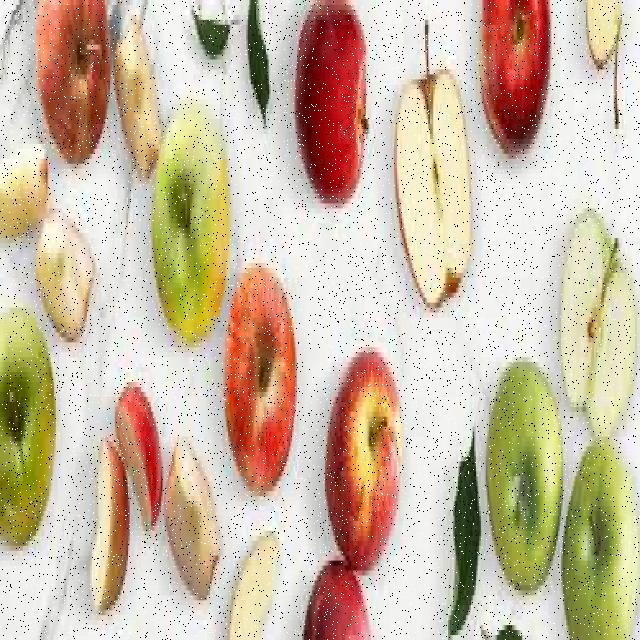Apple: (396, 60, 473, 308), (486, 360, 562, 589), (561, 211, 636, 440), (154, 108, 228, 336), (224, 267, 295, 494), (324, 352, 402, 554), (562, 440, 640, 640), (295, 5, 369, 198), (0, 302, 58, 545), (38, 0, 116, 149), (482, 0, 553, 144), (166, 440, 219, 589), (37, 207, 94, 332), (88, 430, 127, 610), (120, 369, 164, 524), (116, 22, 158, 181), (231, 528, 281, 640), (303, 563, 372, 640), (0, 142, 50, 235), (584, 0, 626, 67)
